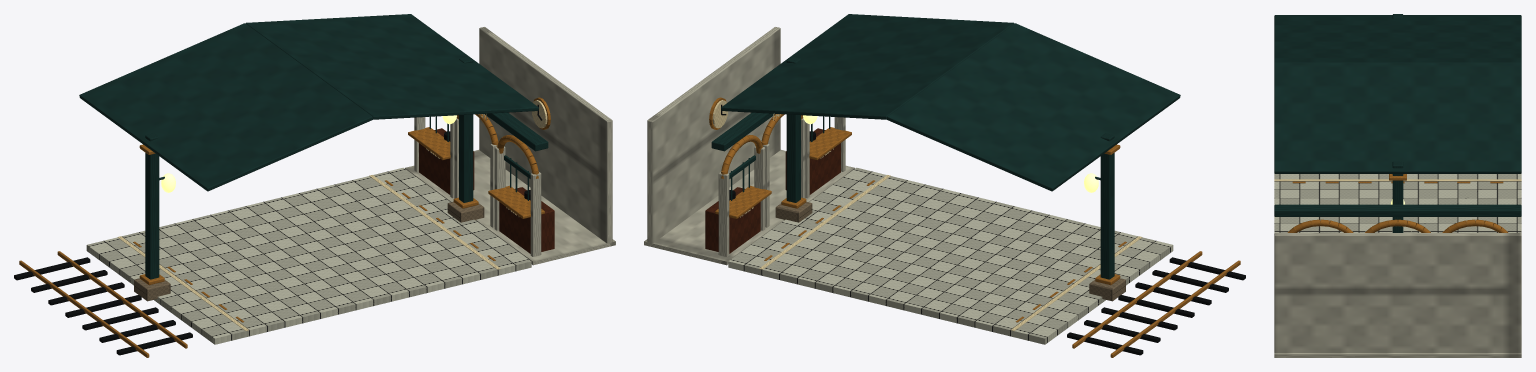
File: station-ticket-hall-v1-DQTKf2hf.glb
The picture shows the model from 3 angles, left to right: view 1: azimuth 30°, elevation 25°; view 2: azimuth 150°, elevation 25°; view 3: azimuth 270°, elevation 25°; orthographic projection. The views are drawn at different scales.
Parts seen in each view (by area): view 1: Fluted iron column, Platform paving, Ticket hall rear wall, Tactile edge stud, Rail sleeper, Ticket counter, Platform edge stripe, Column stone plinth; view 2: Fluted iron column, Platform paving, Ticket hall rear wall, Tactile edge stud, Rail sleeper, Ticket counter, Platform edge stripe, Column stone plinth; view 3: Fluted iron column, Ticket hall rear wall, Platform paving, Tactile edge stud, Platform edge stripe.
Boxes of the visible parts, x1=… form: Fluted iron column: x1=79, y1=14, x2=548, y2=279; Platform paving: x1=86, y1=167, x2=531, y2=344; Ticket hall rear wall: x1=405, y1=27, x2=615, y2=265; Tactile edge stud: x1=19, y1=97, x2=550, y2=357; Rail sleeper: x1=14, y1=104, x2=542, y2=355; Ticket counter: x1=419, y1=128, x2=554, y2=253; Platform edge stripe: x1=117, y1=100, x2=547, y2=330; Column stone plinth: x1=134, y1=201, x2=484, y2=301; Fluted iron column: x1=711, y1=14, x2=1180, y2=279; Platform paving: x1=728, y1=167, x2=1173, y2=344; Ticket hall rear wall: x1=644, y1=27, x2=854, y2=265; Tactile edge stud: x1=709, y1=97, x2=1240, y2=357; Rail sleeper: x1=721, y1=104, x2=1245, y2=355; Ticket counter: x1=705, y1=128, x2=840, y2=253; Platform edge stripe: x1=712, y1=100, x2=1142, y2=330; Column stone plinth: x1=775, y1=201, x2=1125, y2=301; Fluted iron column: x1=1274, y1=14, x2=1521, y2=232; Ticket hall rear wall: x1=1274, y1=233, x2=1521, y2=357; Platform paving: x1=1274, y1=173, x2=1521, y2=233; Tactile edge stud: x1=1287, y1=174, x2=1508, y2=232; Platform edge stripe: x1=1274, y1=179, x2=1521, y2=181.
Size of the model in its own units: 16.4 by 6.12 by 7.5.
9 materials, 9 textured.
